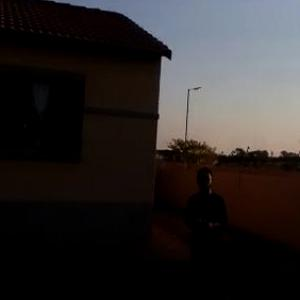follow: (178, 162, 234, 299)
